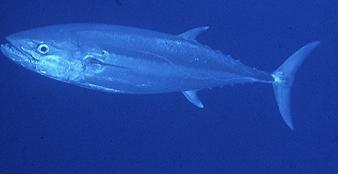Scombridae -Tunas-: (0, 21, 326, 134)
